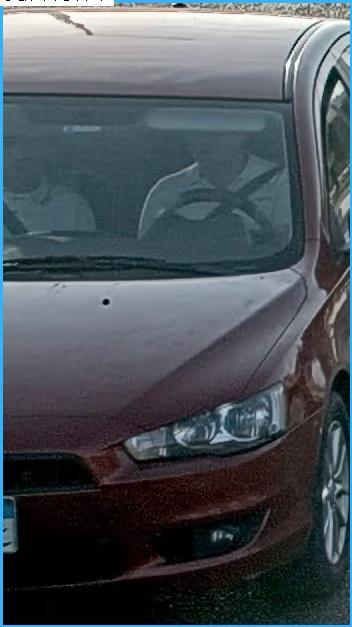windshield: (5, 90, 302, 283)
